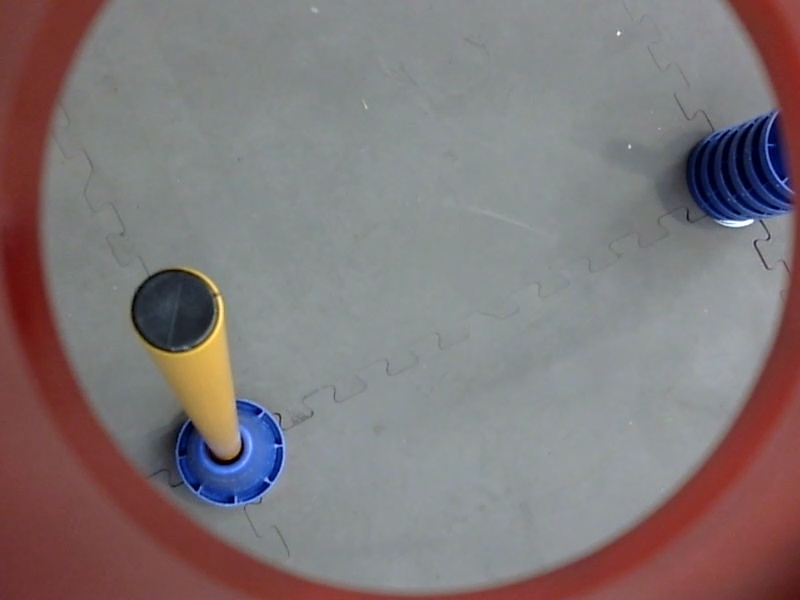tip: (125, 256, 226, 360)
